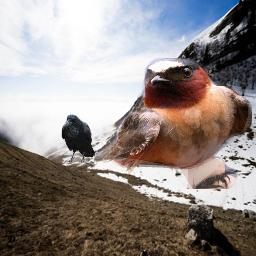Crow: (61, 114, 95, 163)
Swallow: (94, 58, 252, 189)
